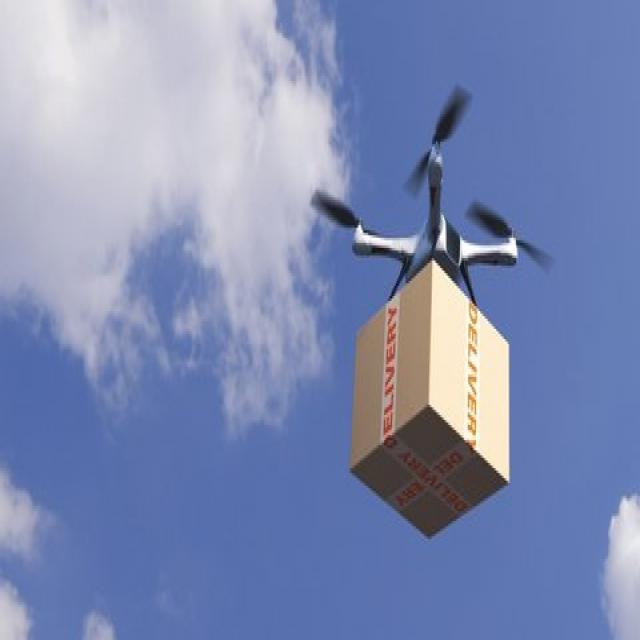drones: (294, 76, 543, 333)
